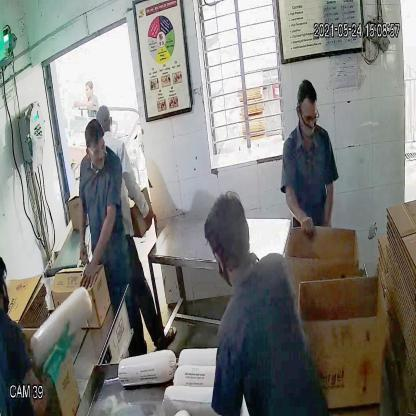goggles: (84, 138, 108, 162)
